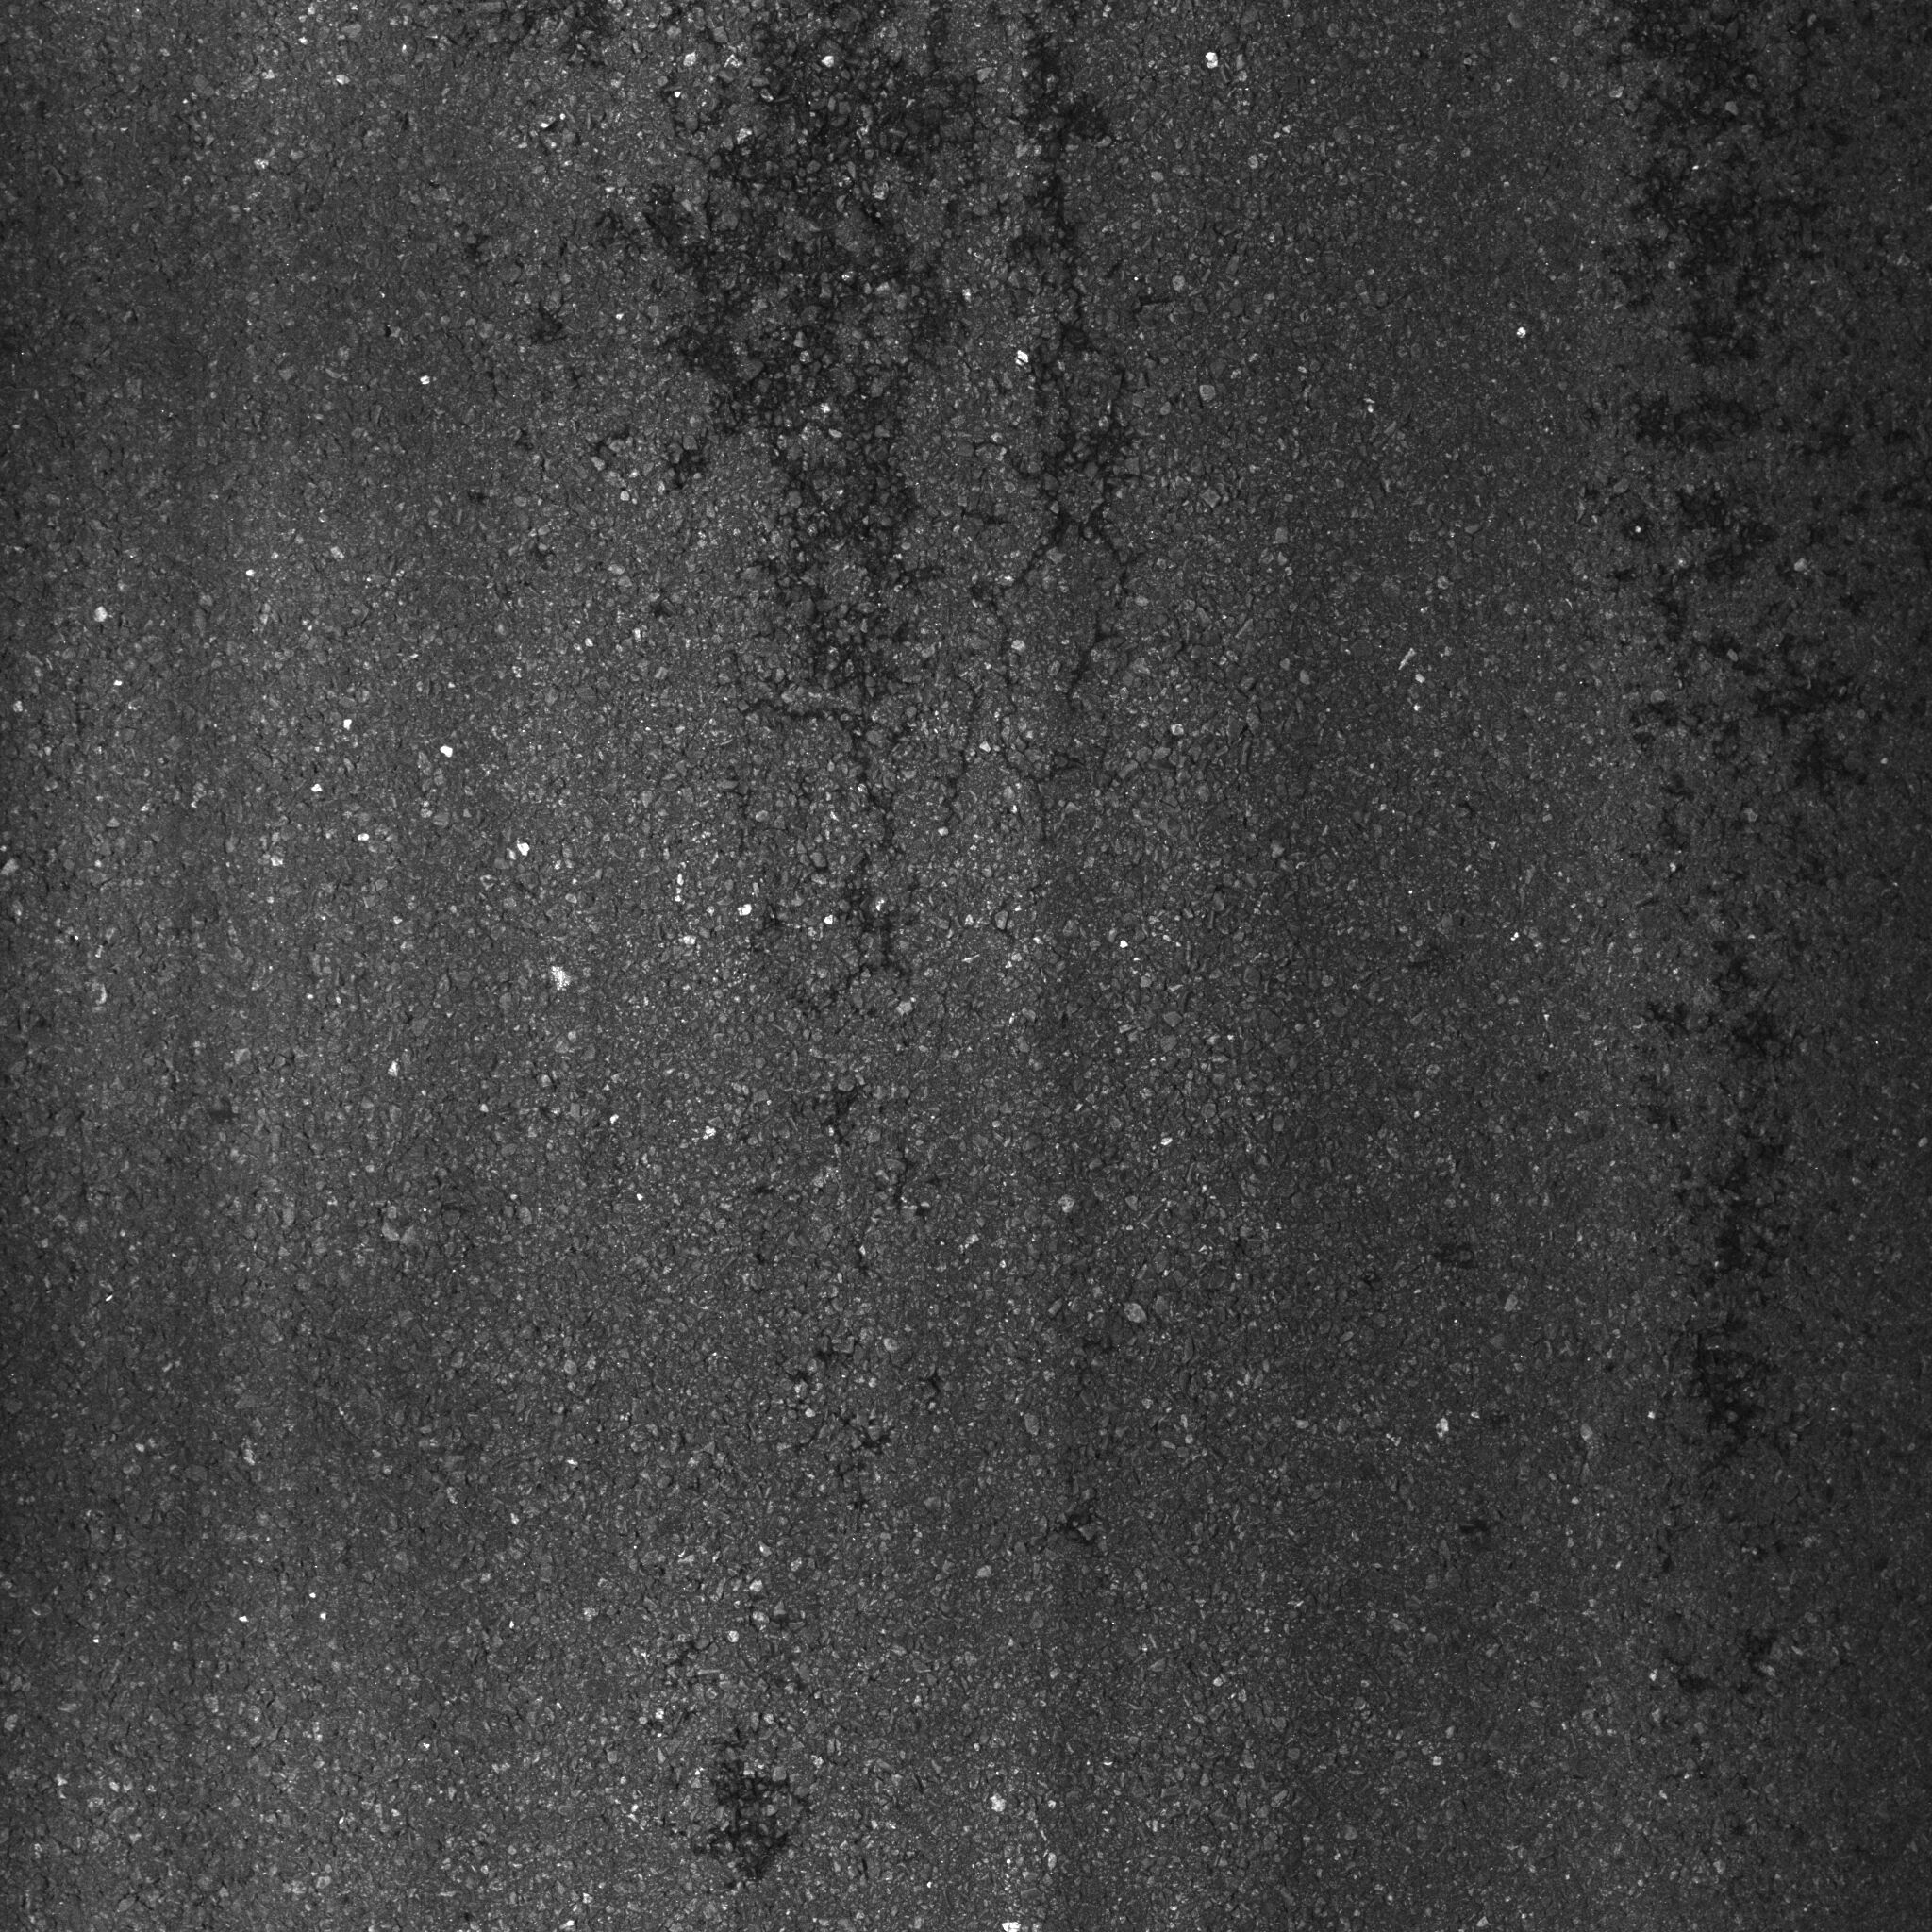alligator: (462, 14, 1267, 1042)
